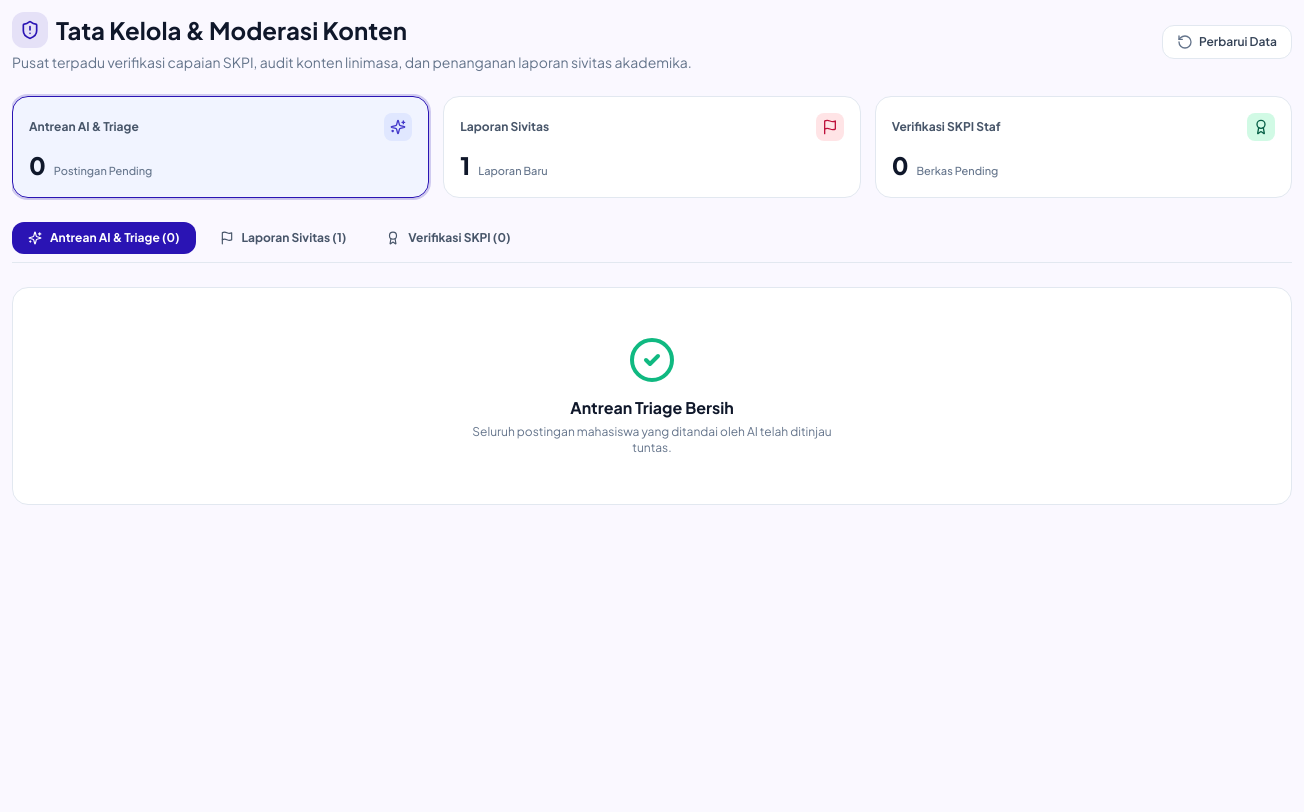
Scenario: M08 Moderation & Reports Frontend Tests › switches to reports tab and loads reports queue
Click the button "Laporan Sivitas (1)" at coordinates (283, 238), box [204,222,362,254]
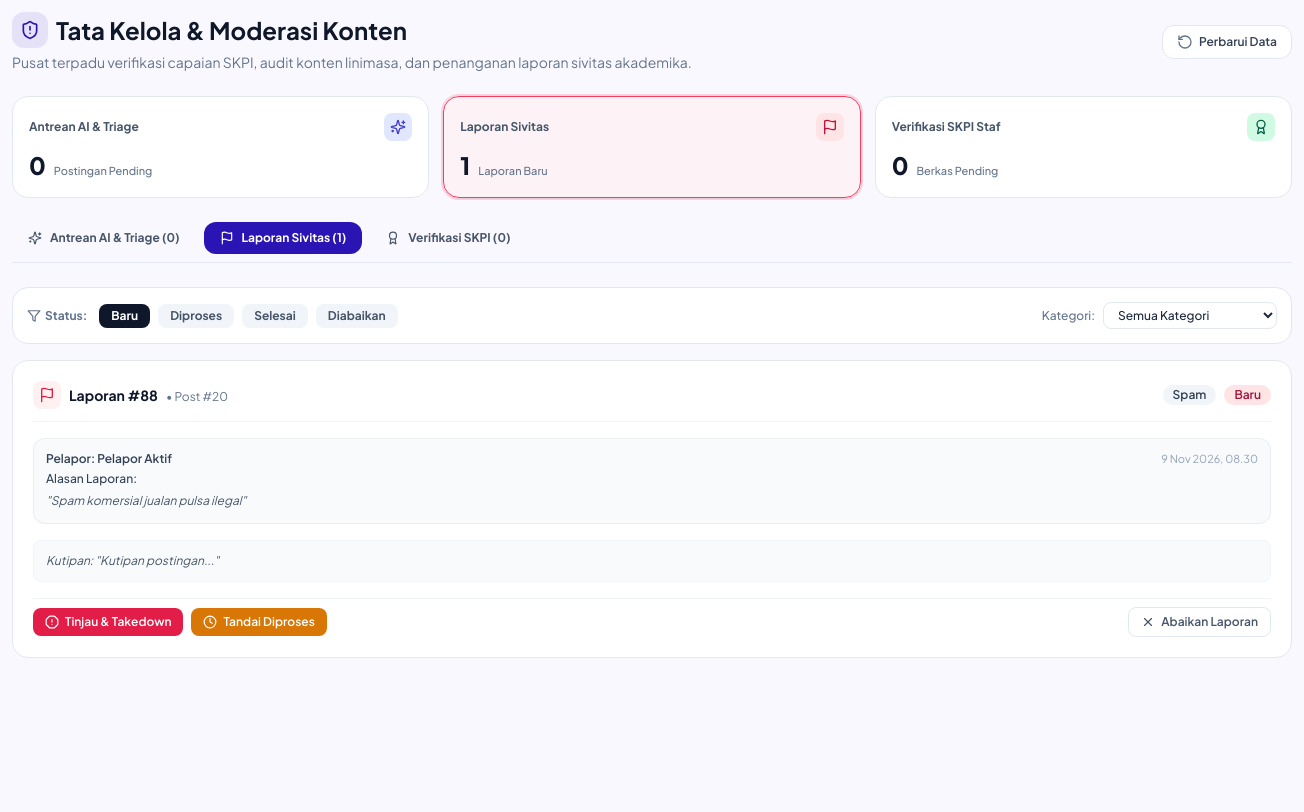
expect the text "Laporan #88" is shown: met, box [69,386,158,404]
expect the text "\"Spam komersial jualan pulsa ilegal\"" is shown: met, box [46,493,246,508]
expect the text "Pelapor Aktif" is shown: met, box [97,451,172,466]
